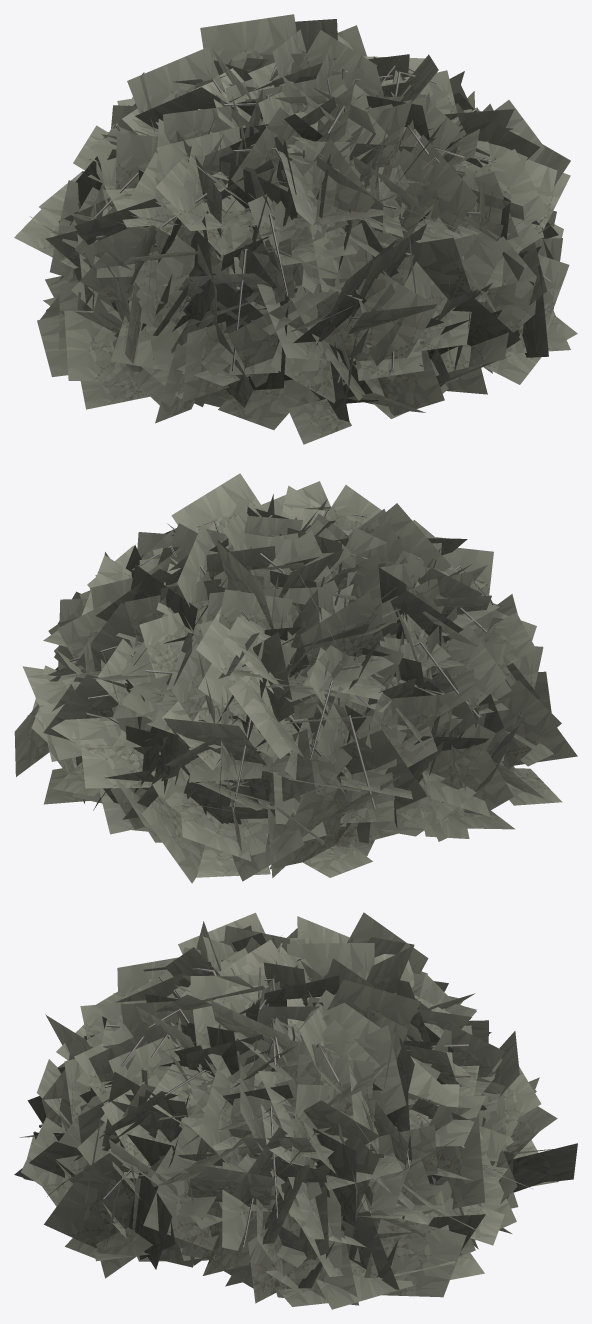
The model's file is bursage_a.glb.
3 views of the same model, one above another, from view 1: azimuth 30°, elevation 25°; view 2: azimuth 150°, elevation 25°; view 3: azimuth 270°, elevation 25° (orthographic). The views are drawn at different scales.
Parts seen in each view (by area): view 1: bursage_a; view 2: bursage_a; view 3: bursage_a.
Part boxes in pixels (box(x1,y1,x2,y2)): bursage_a: box(14, 14, 577, 444); bursage_a: box(14, 473, 577, 883); bursage_a: box(14, 912, 577, 1309).
Size of the model in its own units: 0.9233 by 0.4628 by 0.9402.
Materials: 2 (1 with a texture image).
